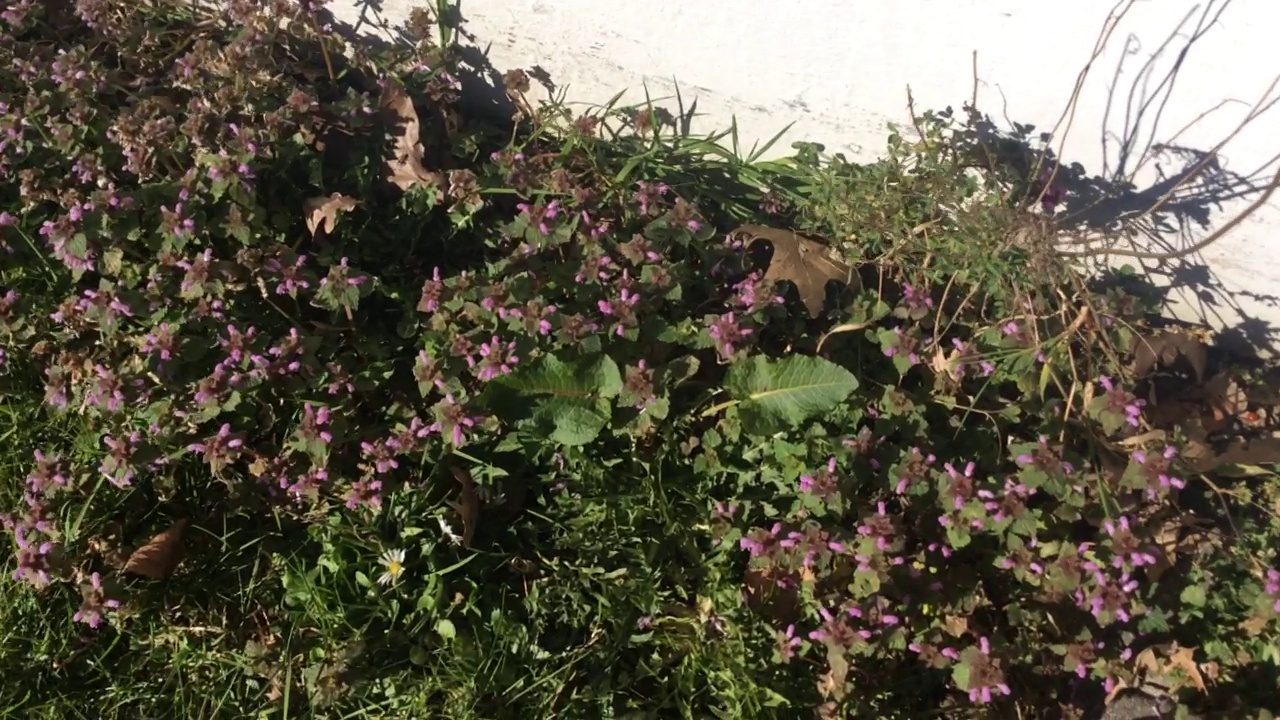rumex: (462, 348, 861, 447)
